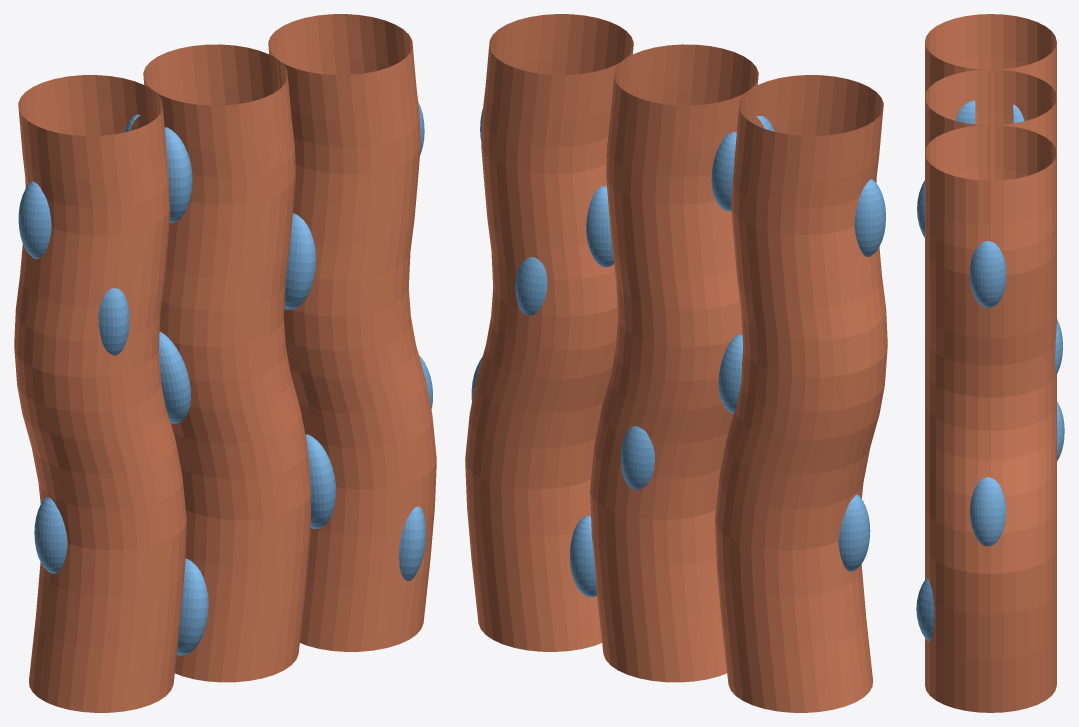
File: Striated.gltf
The picture shows the model from 3 angles, left to right: view 1: azimuth 30°, elevation 25°; view 2: azimuth 150°, elevation 25°; view 3: azimuth 270°, elevation 25°; orthographic projection. The views are drawn at different scales.
Visible parts, largest first — view 1: Sphere.003; view 2: Sphere.003; view 3: Sphere.003.
Boxes of the visible parts, <box> form: Sphere.003: <box>14,14,436,712</box>; Sphere.003: <box>465,14,887,712</box>; Sphere.003: <box>916,14,1064,712</box>.
Size of the model in its own units: 6.02 by 8.15 by 2.08.
